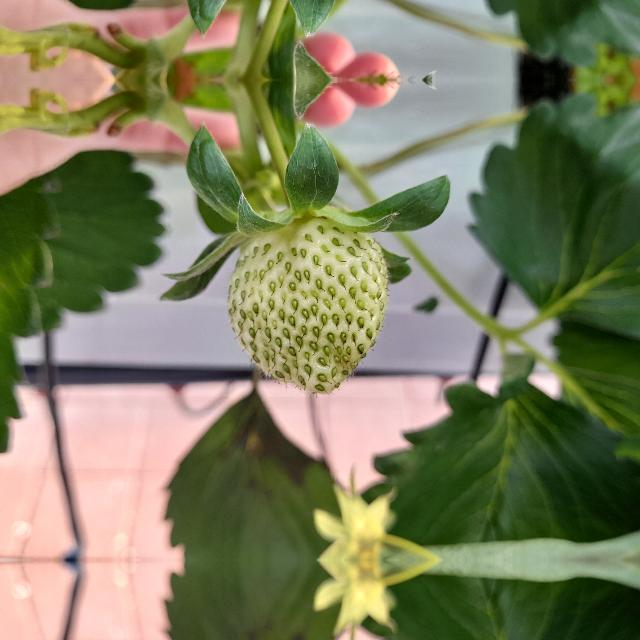Health_25: (226, 217, 388, 395)
